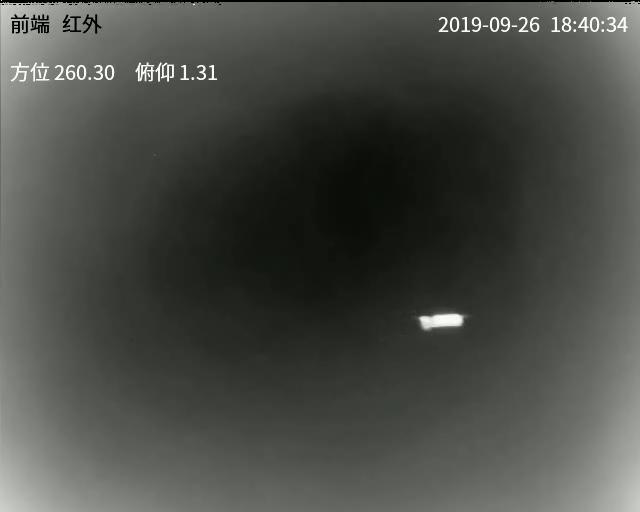uav: (415, 306, 472, 331)
